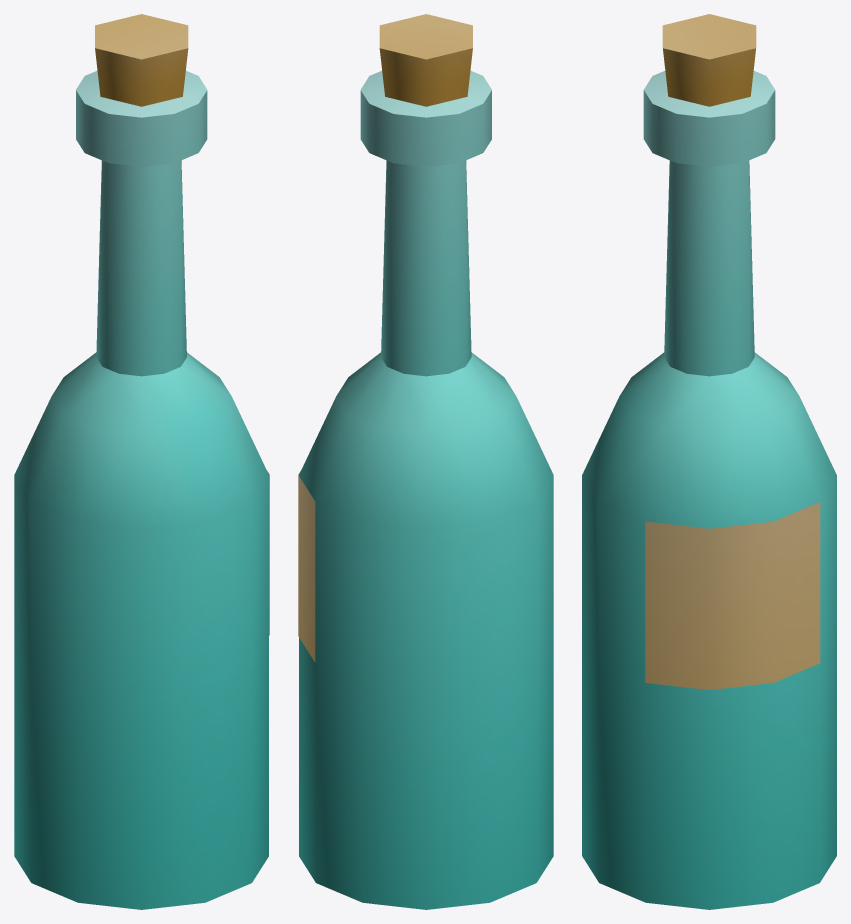
File: Bottle.fbx
3 views of the same model, side by side, from view 1: azimuth 30°, elevation 25°; view 2: azimuth 150°, elevation 25°; view 3: azimuth 270°, elevation 25° (orthographic).
Visible parts, largest first — view 1: Cylinder; view 2: Cylinder; view 3: Cylinder.
Boxes of the visible parts, box(x1,y1,x2,y2) form: Cylinder: box(14, 14, 269, 909); Cylinder: box(298, 14, 553, 909); Cylinder: box(582, 14, 836, 909).
Size of the model in its own units: 17.78 by 62.91 by 17.73.
